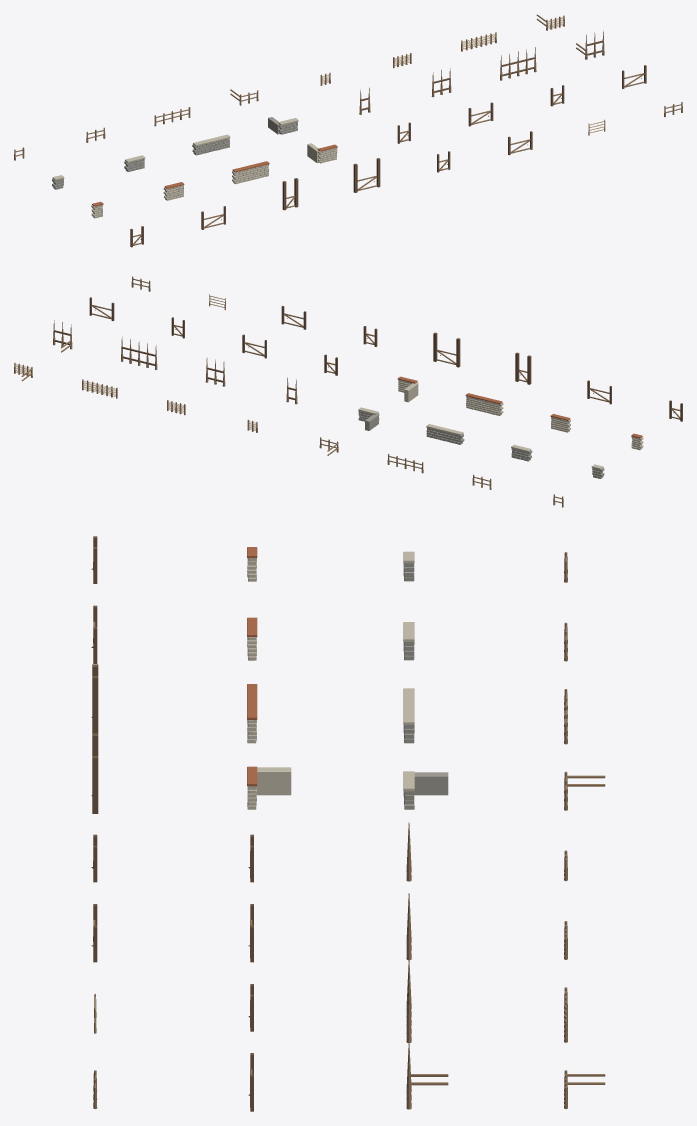
File: enclosures.glb
3 renders of one model, top to bottom at view 1: azimuth 30°, elevation 25°; view 2: azimuth 150°, elevation 25°; view 3: azimuth 270°, elevation 25°, orthographic. The views are drawn at different scales.
Parts seen in each view (by area): view 1: GK_enclosure_parish_wall_4m, GK_enclosure_dry_stone_4m, GK_enclosure_parish_wall_corner, GK_enclosure_dry_stone_corner, GK_enclosure_palisade_gate_cart, GK_enclosure_palisade_4m; view 2: GK_enclosure_parish_wall_4m, GK_enclosure_dry_stone_4m, GK_enclosure_parish_wall_corner, GK_enclosure_palisade_gate_cart, GK_enclosure_palisade_4m, GK_enclosure_wattle_4m, GK_enclosure_dry_stone_corner; view 3: GK_enclosure_parish_wall_corner, GK_enclosure_dry_stone_corner.
Boxes of the visible parts, <box> form: GK_enclosure_parish_wall_4m: <box>232,161,269,184</box>; GK_enclosure_dry_stone_4m: <box>192,134,230,155</box>; GK_enclosure_parish_wall_corner: <box>307,143,337,163</box>; GK_enclosure_dry_stone_corner: <box>268,117,298,134</box>; GK_enclosure_palisade_gate_cart: <box>353,158,380,192</box>; GK_enclosure_palisade_4m: <box>500,47,536,80</box>; GK_enclosure_parish_wall_4m: <box>465,393,503,415</box>; GK_enclosure_dry_stone_4m: <box>426,424,464,444</box>; GK_enclosure_parish_wall_corner: <box>397,376,418,402</box>; GK_enclosure_palisade_gate_cart: <box>433,332,460,367</box>; GK_enclosure_palisade_4m: <box>121,336,157,369</box>; GK_enclosure_wattle_4m: <box>82,379,117,398</box>; GK_enclosure_dry_stone_corner: <box>358,407,379,430</box>; GK_enclosure_parish_wall_corner: <box>247,766,291,809</box>; GK_enclosure_dry_stone_corner: <box>403,771,448,809</box>.
Bounding box in the file's own units: 65.15 × 3.15 × 26.18.
